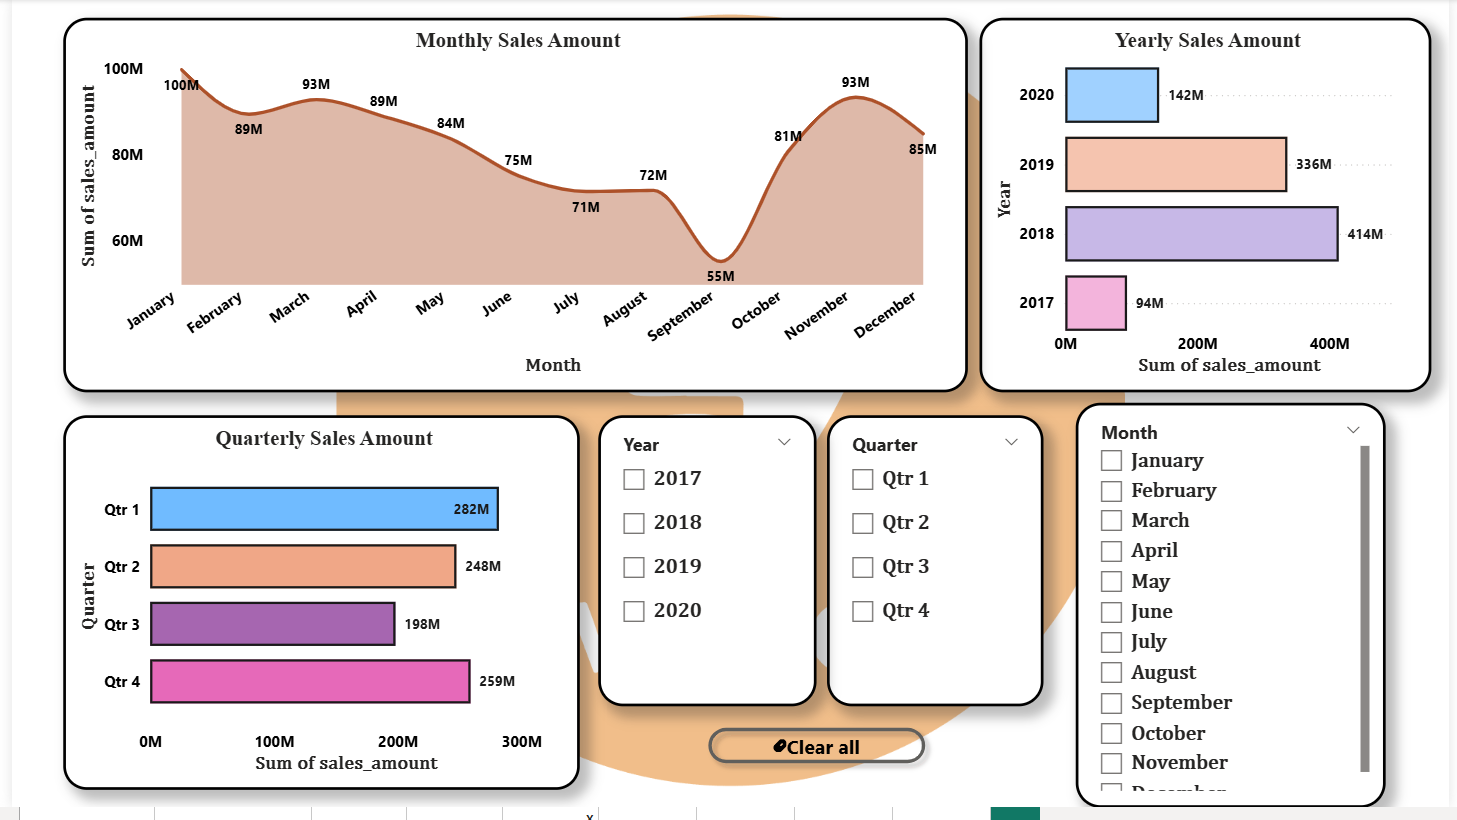

This screenshot's page, from the dashboard's own definition file:
{"tool":"powerbi","page":{"name":"Page 3","canvas":[1280,720],"ordinal":4},"visuals":[{"type":"clusteredBarChart","title":"Yearly Sales Amount","fields":{"Category":["orders.order_date.Variation.Date Hierarchy.Year"],"Y":["Sum(orders.sales_amount)"]},"box":[861.8,16.5,402.1,333.4],"z":0},{"type":"clusteredBarChart","title":"Quarterly Sales Amount","fields":{"Y":["Sum(orders.sales_amount)"],"Category":["orders.order_date.Variation.Date Hierarchy.Quarter"]},"box":[45.3,370.5,459.7,333.4],"z":1000},{"type":"areaChart","title":"Monthly Sales Amount","fields":{"Category":["orders.order_date.Variation.Date Hierarchy.Month"],"Y":["Sum(orders.sales_amount)"]},"box":[45.3,16.5,805.5,333.4],"z":2000},{"type":"slicer","fields":{"Values":["orders.order_date.Variation.Date Hierarchy.Quarter"]},"box":[726.3,370.4,193,259.4],"z":3000},{"type":"slicer","fields":{"Values":["orders.order_date.Variation.Date Hierarchy.Year"]},"box":[522.4,370.4,194.2,259.4],"z":4000},{"type":"slicer","fields":{"Values":["orders.order_date.Variation.Date Hierarchy.Month"]},"box":[946.8,359.5,275.8,360.9],"z":5000},{"type":"actionButton","box":[611.7,640.6,211.1,49.5],"z":6000}]}

Visuals, with their boxes in screenshot pixels (x1, y1, x2, y2), scaled from the page's 1280x720 canvas onto the 1457x820 screenshot:
"Yearly Sales Amount" clusteredBarChart: l=981, t=19, r=1439, b=398
"Quarterly Sales Amount" clusteredBarChart: l=52, t=422, r=575, b=802
"Monthly Sales Amount" areaChart: l=52, t=19, r=968, b=398
slicer - orders.order_date.Variation.Date Hierarchy.Quarter: l=827, t=422, r=1046, b=717
slicer - orders.order_date.Variation.Date Hierarchy.Year: l=595, t=422, r=816, b=717
slicer - orders.order_date.Variation.Date Hierarchy.Month: l=1078, t=409, r=1392, b=819
actionButton: l=696, t=730, r=937, b=786
